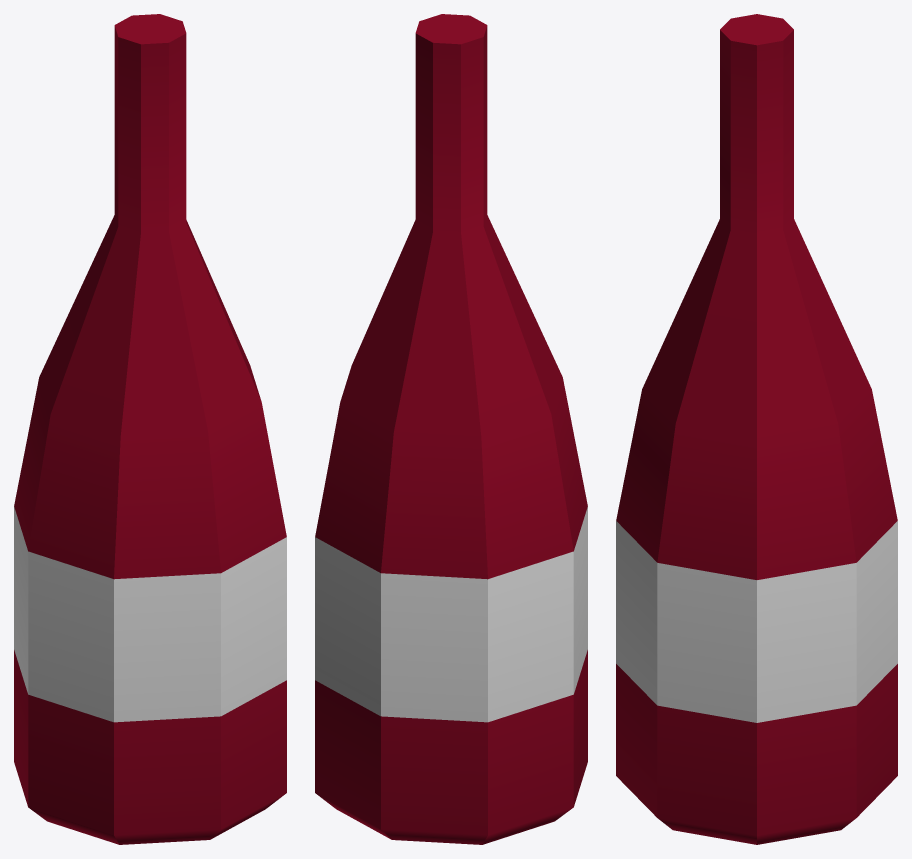
File: BottleA.fbx
3 renders of one model, left to right at view 1: azimuth 30°, elevation 25°; view 2: azimuth 150°, elevation 25°; view 3: azimuth 270°, elevation 25°, orthographic.
Visible parts, largest first — view 1: pCylinder1; view 2: pCylinder1; view 3: pCylinder1.
Part boxes in pixels (<box>): pCylinder1: <box>14,14,286,844</box>; pCylinder1: <box>315,14,587,844</box>; pCylinder1: <box>616,14,897,844</box>.
Bounding box in the file's own units: 7.69 × 23.03 × 7.69.
